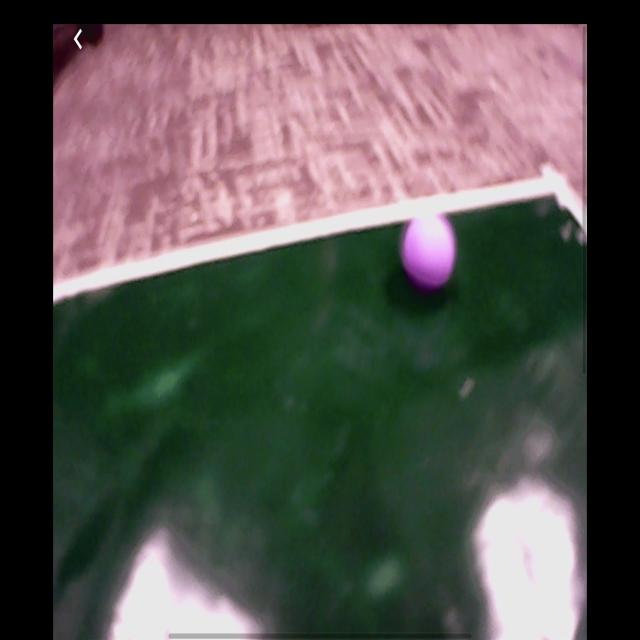ball: (400, 212, 458, 293)
